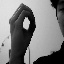o: (5, 1, 37, 49)
